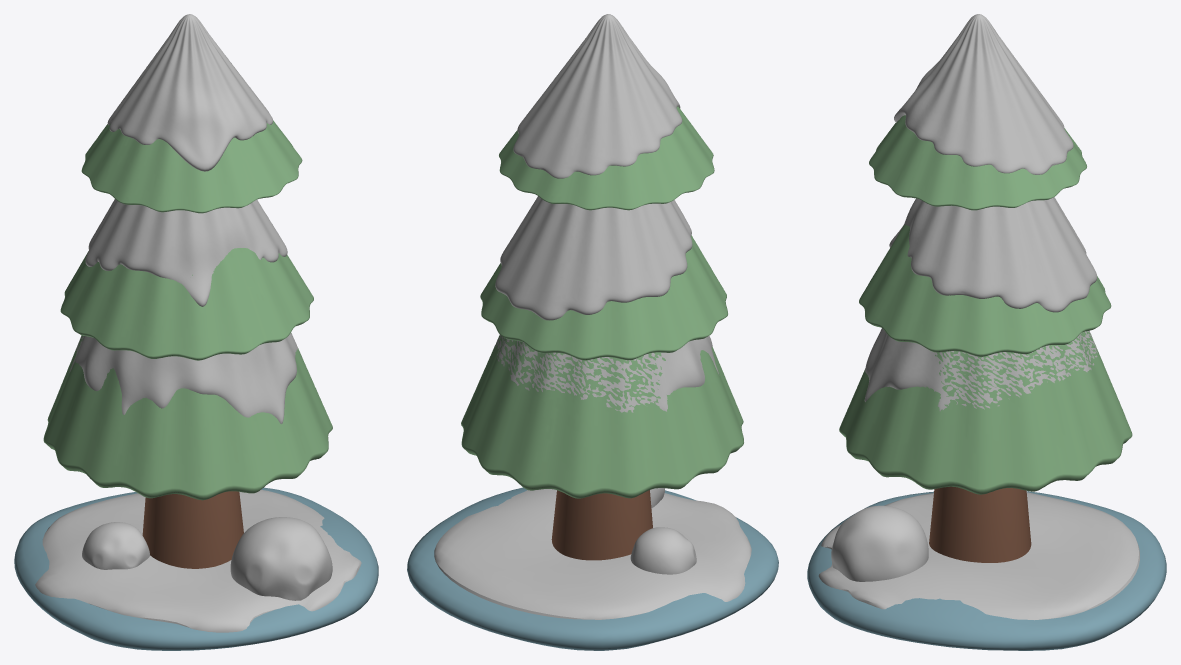
Rendered from winter tree.glb.
The picture shows the model from 3 angles, left to right: view 1: azimuth 30°, elevation 25°; view 2: azimuth 150°, elevation 25°; view 3: azimuth 270°, elevation 25°; orthographic projection.
Visible parts, largest first — view 1: Merged_0, Merged_1, Plane051, Cylinder077; view 2: Merged_0, Merged_1, Plane051, Cylinder077; view 3: Merged_0, Merged_1, Plane051, Cylinder077.
Part boxes in pixels (x1,y1,x2,y2): Merged_0: [35, 14, 361, 632]; Merged_1: [43, 120, 332, 500]; Plane051: [14, 487, 378, 650]; Cylinder077: [142, 491, 243, 568]; Merged_0: [434, 14, 751, 619]; Merged_1: [461, 106, 743, 498]; Plane051: [407, 487, 778, 650]; Cylinder077: [551, 490, 652, 560]; Merged_0: [818, 14, 1139, 620]; Merged_1: [839, 115, 1132, 494]; Plane051: [807, 491, 1166, 650]; Cylinder077: [929, 486, 1031, 562].
Size of the model in its own units: 0.5728 by 1 by 0.5752.
